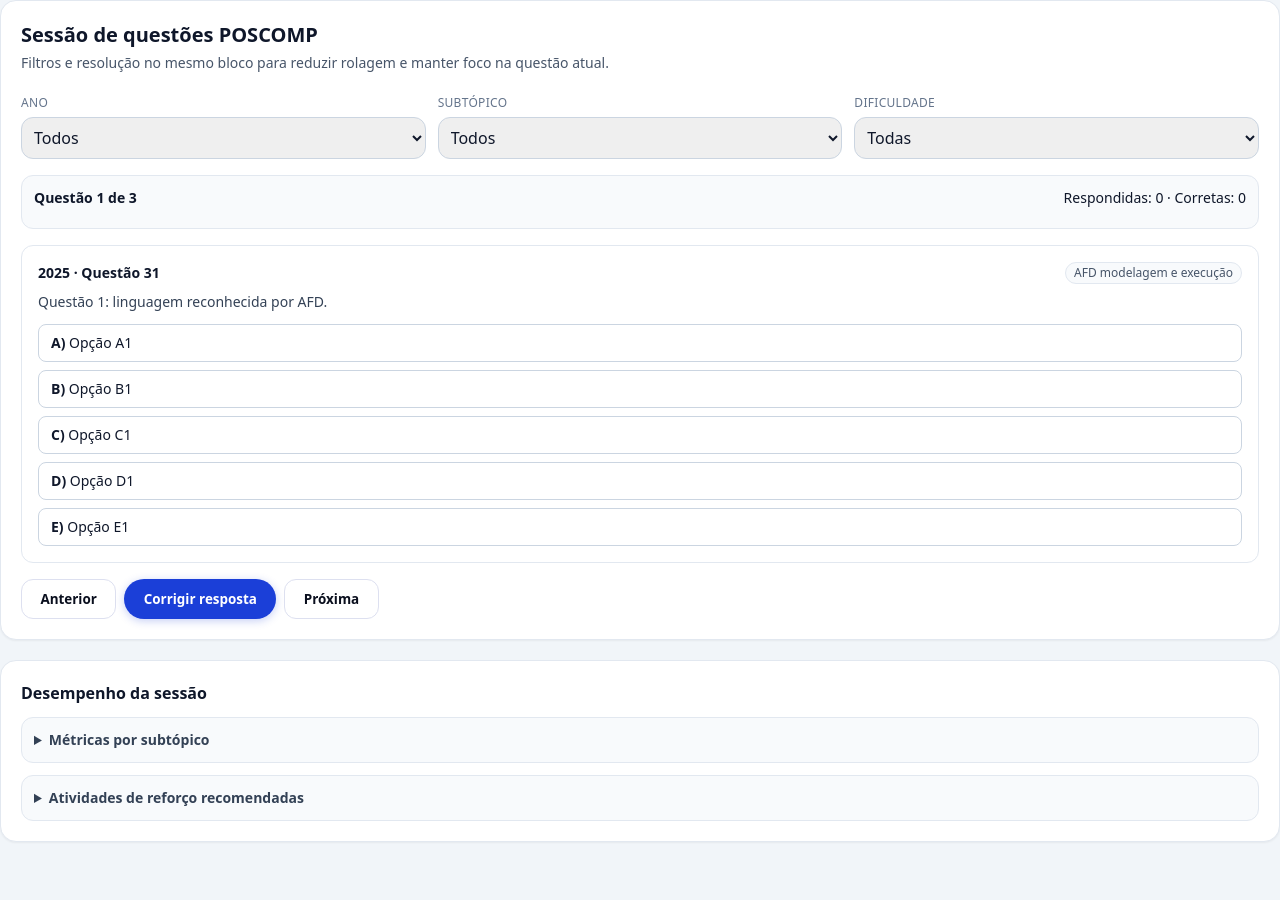
QuestionsPanel UX V2 › oculta feedback da questão anterior ao navegar para próxima
Expected: the text "Questão 1: linguagem reconhecida por AFD." is shown, [38,292,327,311]
Click the button "A) Opção A1" at (101, 342), box [38,324,1242,362]
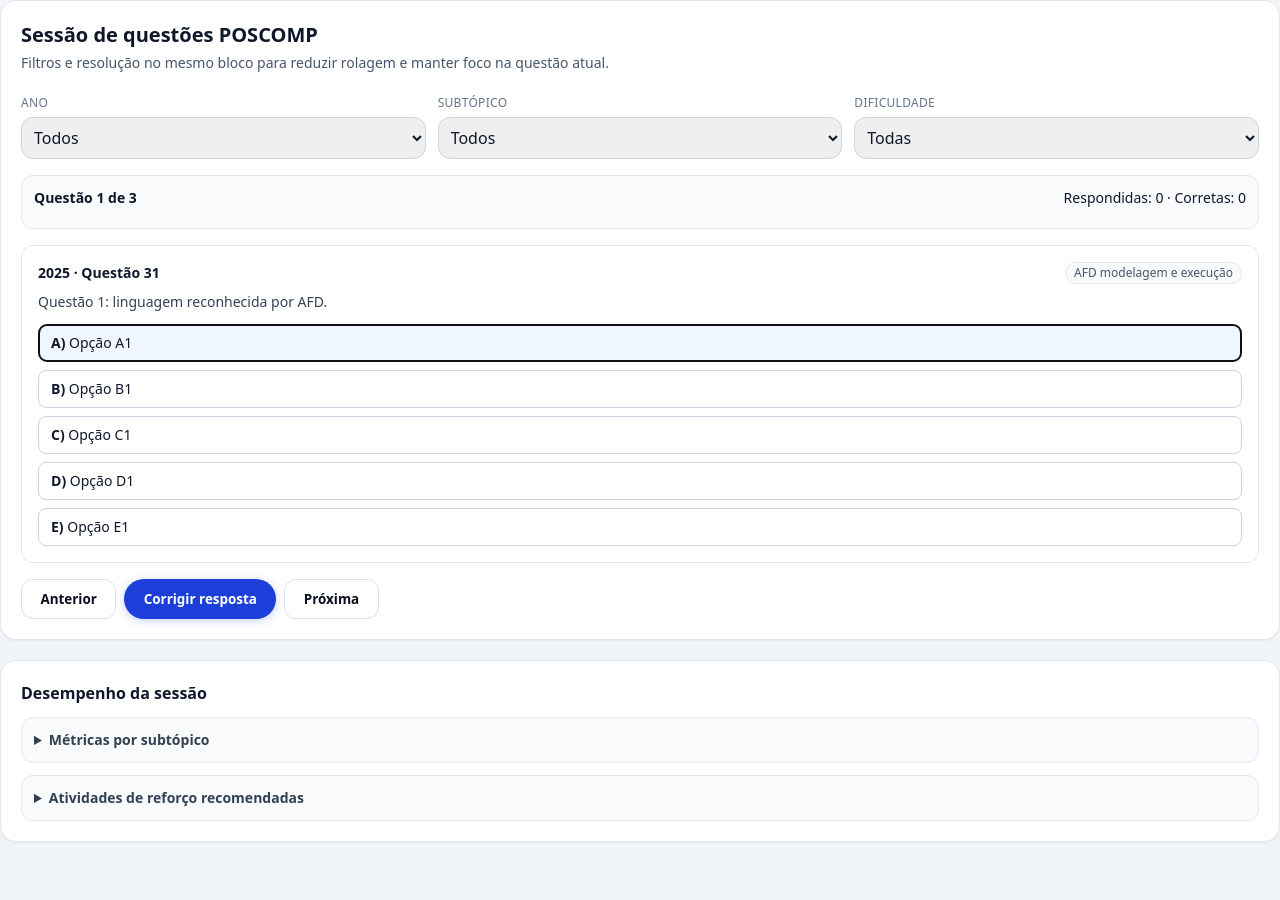
Click the button "Corrigir resposta" at (200, 599), box [124,579,276,619]
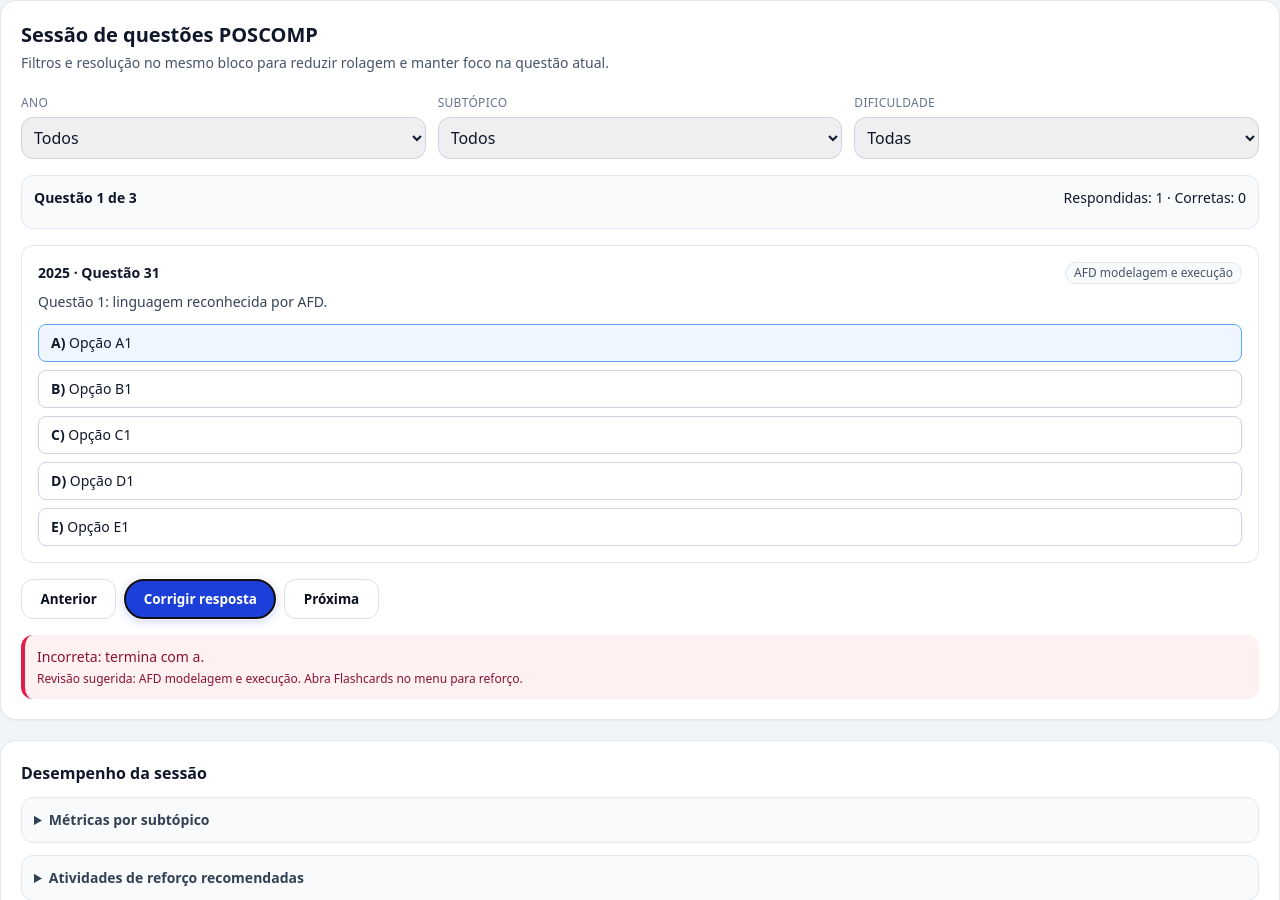
Expected: the element with test id "exercise-feedback" is shown, [21,635,1259,699]
Click the button "Próxima" at (331, 599), box [284,579,379,619]
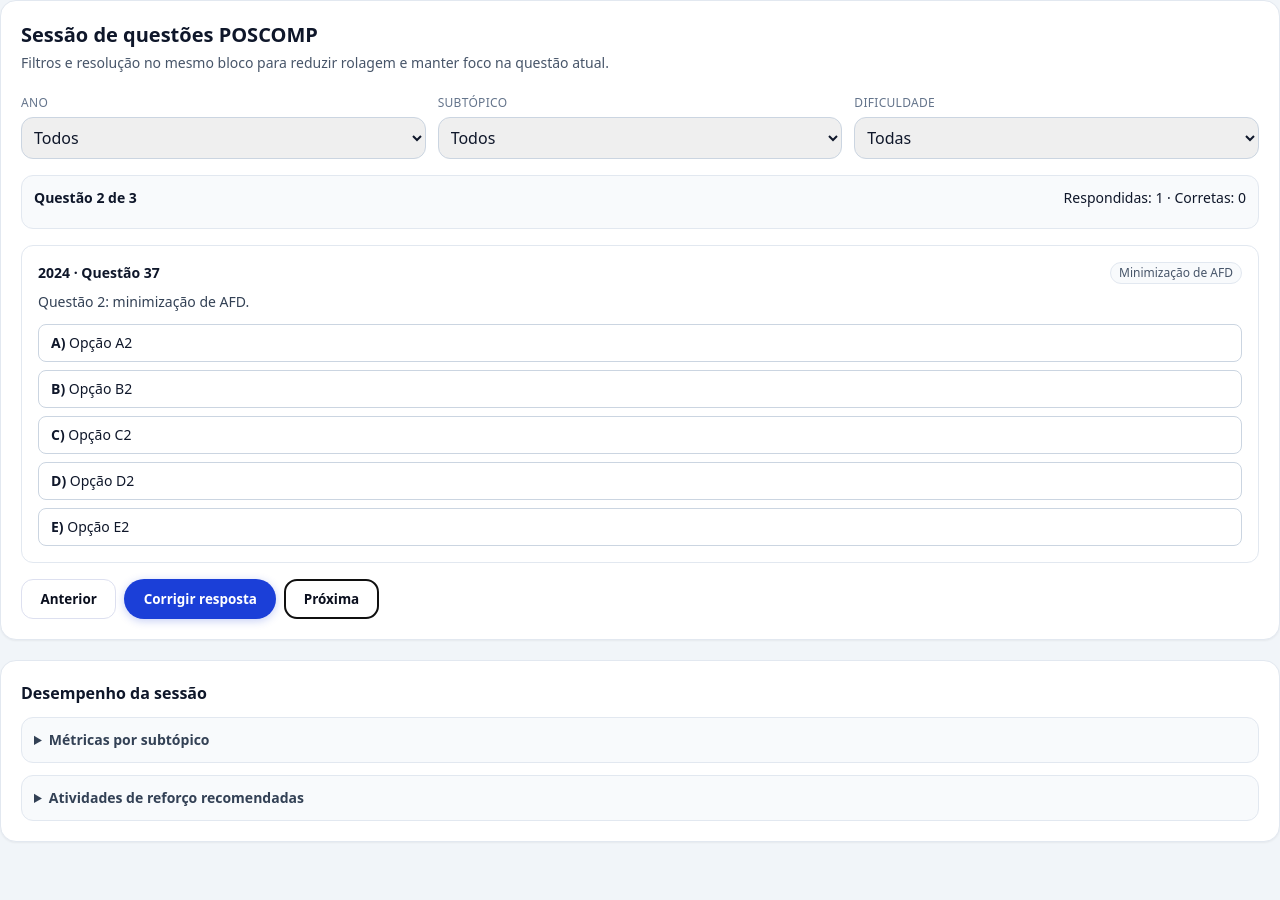
Expected: the element with test id "exercise-feedback" is gone
